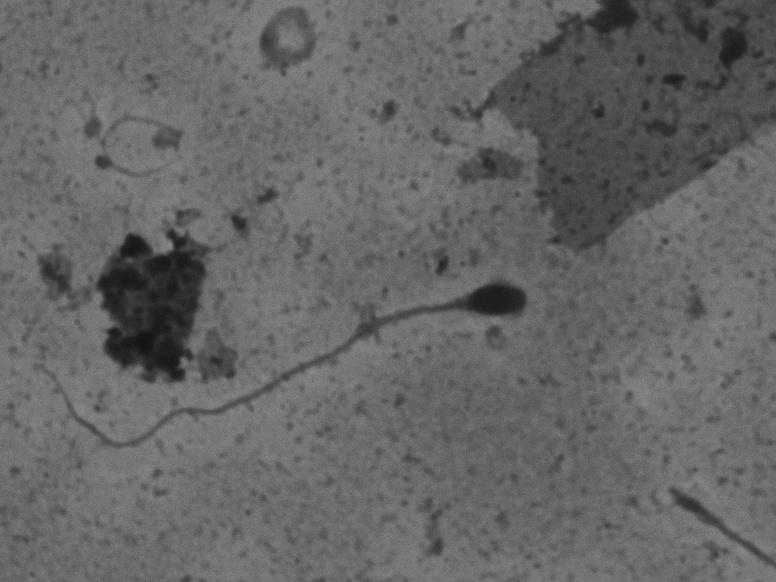Normal: (13, 270, 534, 474)
